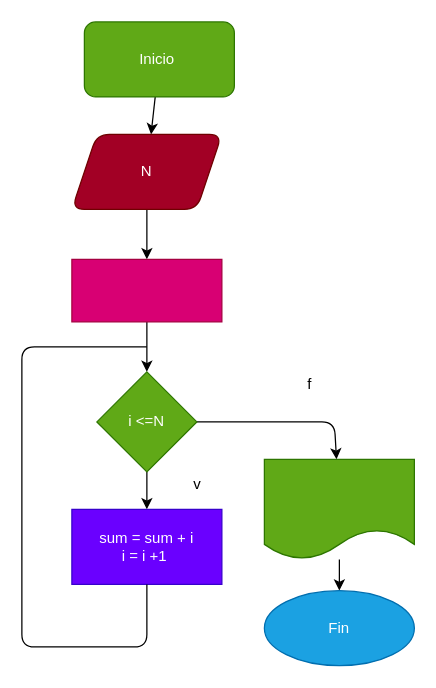
Image size: 436x688. Some labels were removed from this diagram. Here are the shapes that lost their labels. From the top down, the centre of each, then its label:
At (x=146, y=290): "i = 1 sum = o".
At (x=338, y=508): "sum".
